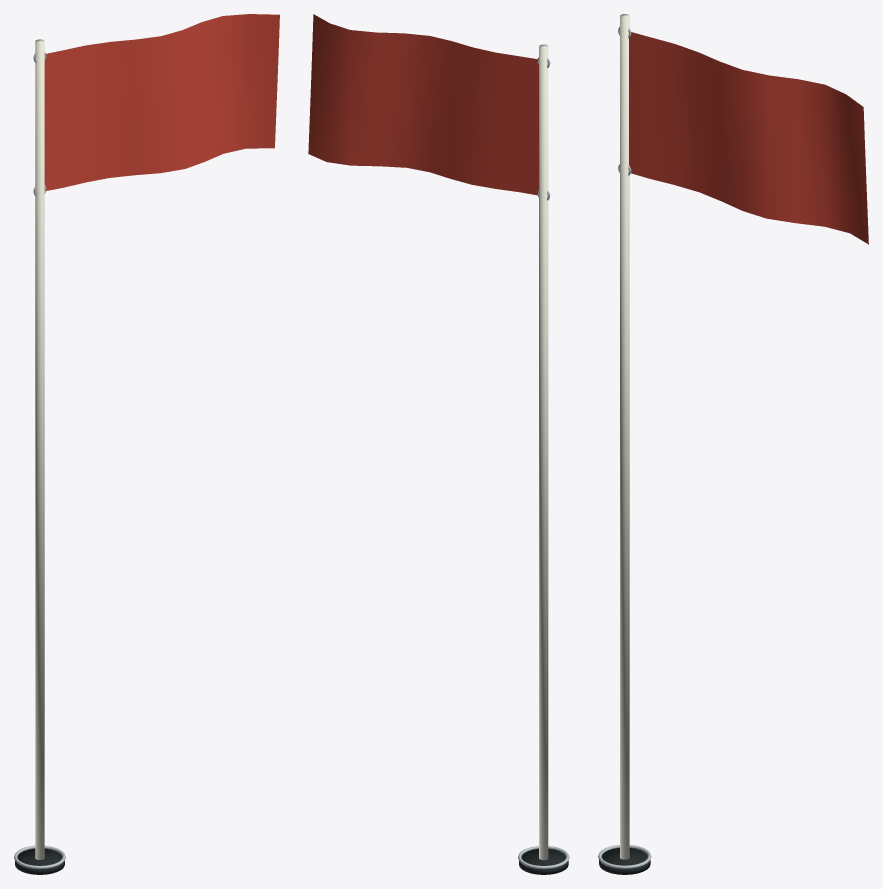
File: target-flag.glb
3 renders of one model, left to right at view 1: azimuth 30°, elevation 25°; view 2: azimuth 150°, elevation 25°; view 3: azimuth 330°, elevation 25°, orthographic. The views are drawn at different scales.
Parts seen in each view (by area): view 1: Flag, Pole, Cup; view 2: Flag, Pole, Cup; view 3: Flag, Pole, Cup.
Boxes of the visible parts, x1,y1,x2,y2 form: Flag: (44,14,279,190); Pole: (35,39,44,859); Cup: (15,848,64,874); Flag: (308,14,538,195); Pole: (539,44,548,860); Cup: (519,849,568,874); Flag: (629,32,868,244); Pole: (620,14,629,859); Cup: (599,848,650,874).
Size of the model in its own units: 0.69 by 2.1 by 0.12.
